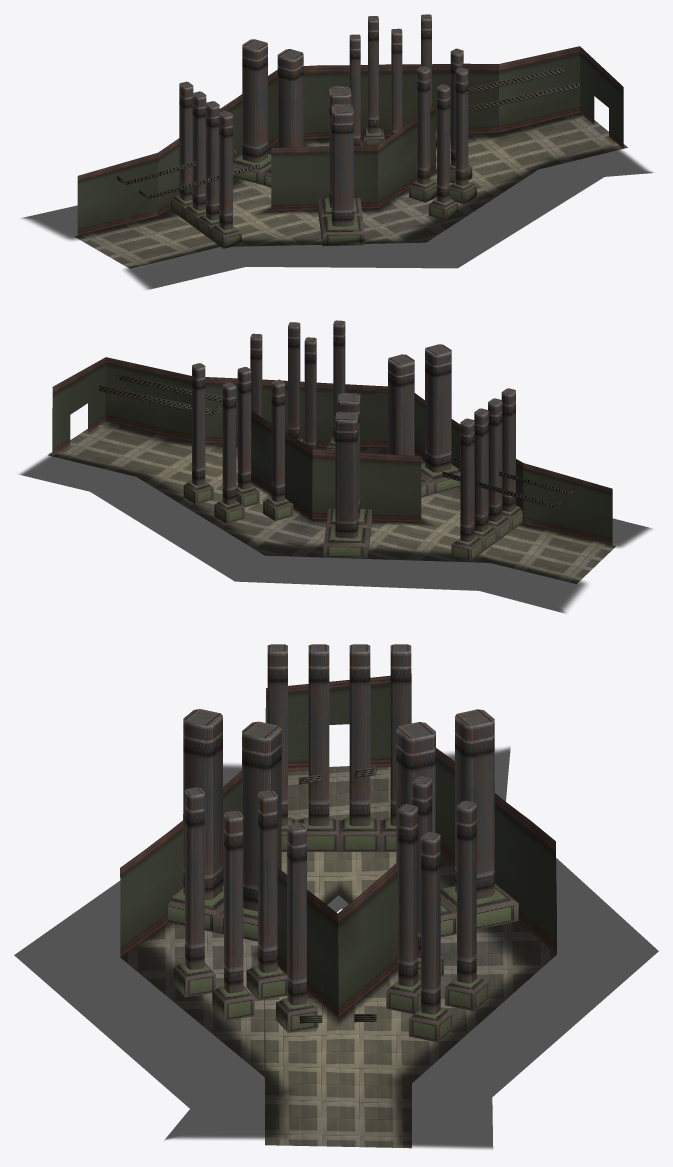
The model's file is room_101.glb.
3 renders of one model, top to bottom at view 1: azimuth 30°, elevation 25°; view 2: azimuth 150°, elevation 25°; view 3: azimuth 270°, elevation 25°, orthographic. The views are drawn at different scales.
Visible parts, largest first — view 1: shaft (×16), groundShadow_1, floor, W14, W2, W16, W13, head (×7), W1, W10, W15, LongLights_Lights2 (+3 smaller); view 2: shaft (×16), groundShadow_1, floor, W3, W9, W12, W6, head (×6), W4, W15, W8, LongLights_Lights1 (+3 smaller); view 3: groundShadow_1, shaft (×16), floor, head (×11), W10, W4, W8, W1, W11, groundShadow_2, wall, wall31.
Boxes of the visible parts, x1,y1,x2,y2 form: shaft (×16): (179,14,468,230); groundShadow_1: (21,113,653,289); floor: (75,113,627,268); W14: (303,63,498,139); W2: (271,145,377,211); W16: (499,46,579,132); W13: (77,153,157,235); head (×7): (210,153,476,248); W1: (378,104,435,207); W10: (158,70,277,215); W15: (580,46,623,148); LongLights_Lights2: (468,83,579,112); shaft (×16): (192,320,515,541); groundShadow_1: (19,422,651,613); floor: (48,421,615,583); W3: (312,448,421,522); W9: (205,377,387,447); W12: (523,463,612,544); W6: (105,357,191,442); head (×6): (183,463,483,561); W4: (251,411,312,519); W15: (52,357,105,456); W8: (414,393,523,522); LongLights_Lights1: (99,385,221,415); groundShadow_1: (14,747,658,1149); shaft (×16): (183,644,494,1014); floor: (121,766,556,1148); head (×11): (168,817,518,1042); W10: (436,748,556,954); W4: (337,861,398,1017); W8: (120,770,241,957); W1: (277,868,338,1017); W11: (265,674,411,726); groundShadow_2: (251,883,398,1025); wall: (370,721,411,767); wall31: (288,726,308,771).
Bounding box in the file's own units: 305 × 66.4 × 197.
8 materials, 8 textured.
